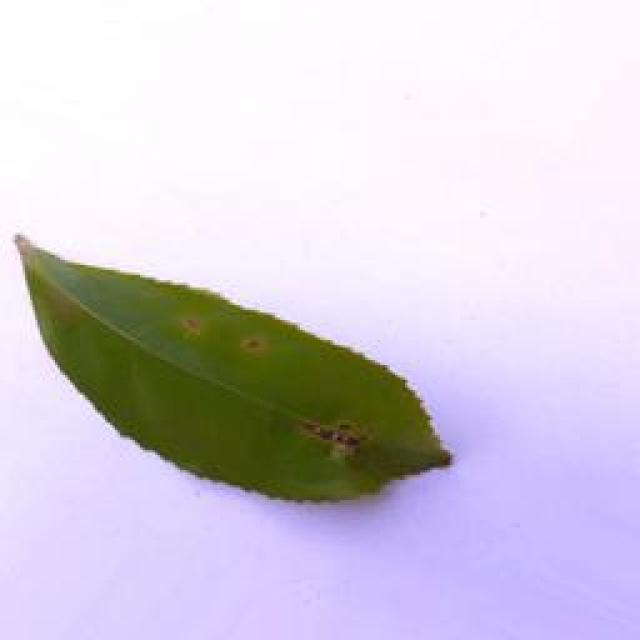Helopeltis: (0, 230, 458, 512)
